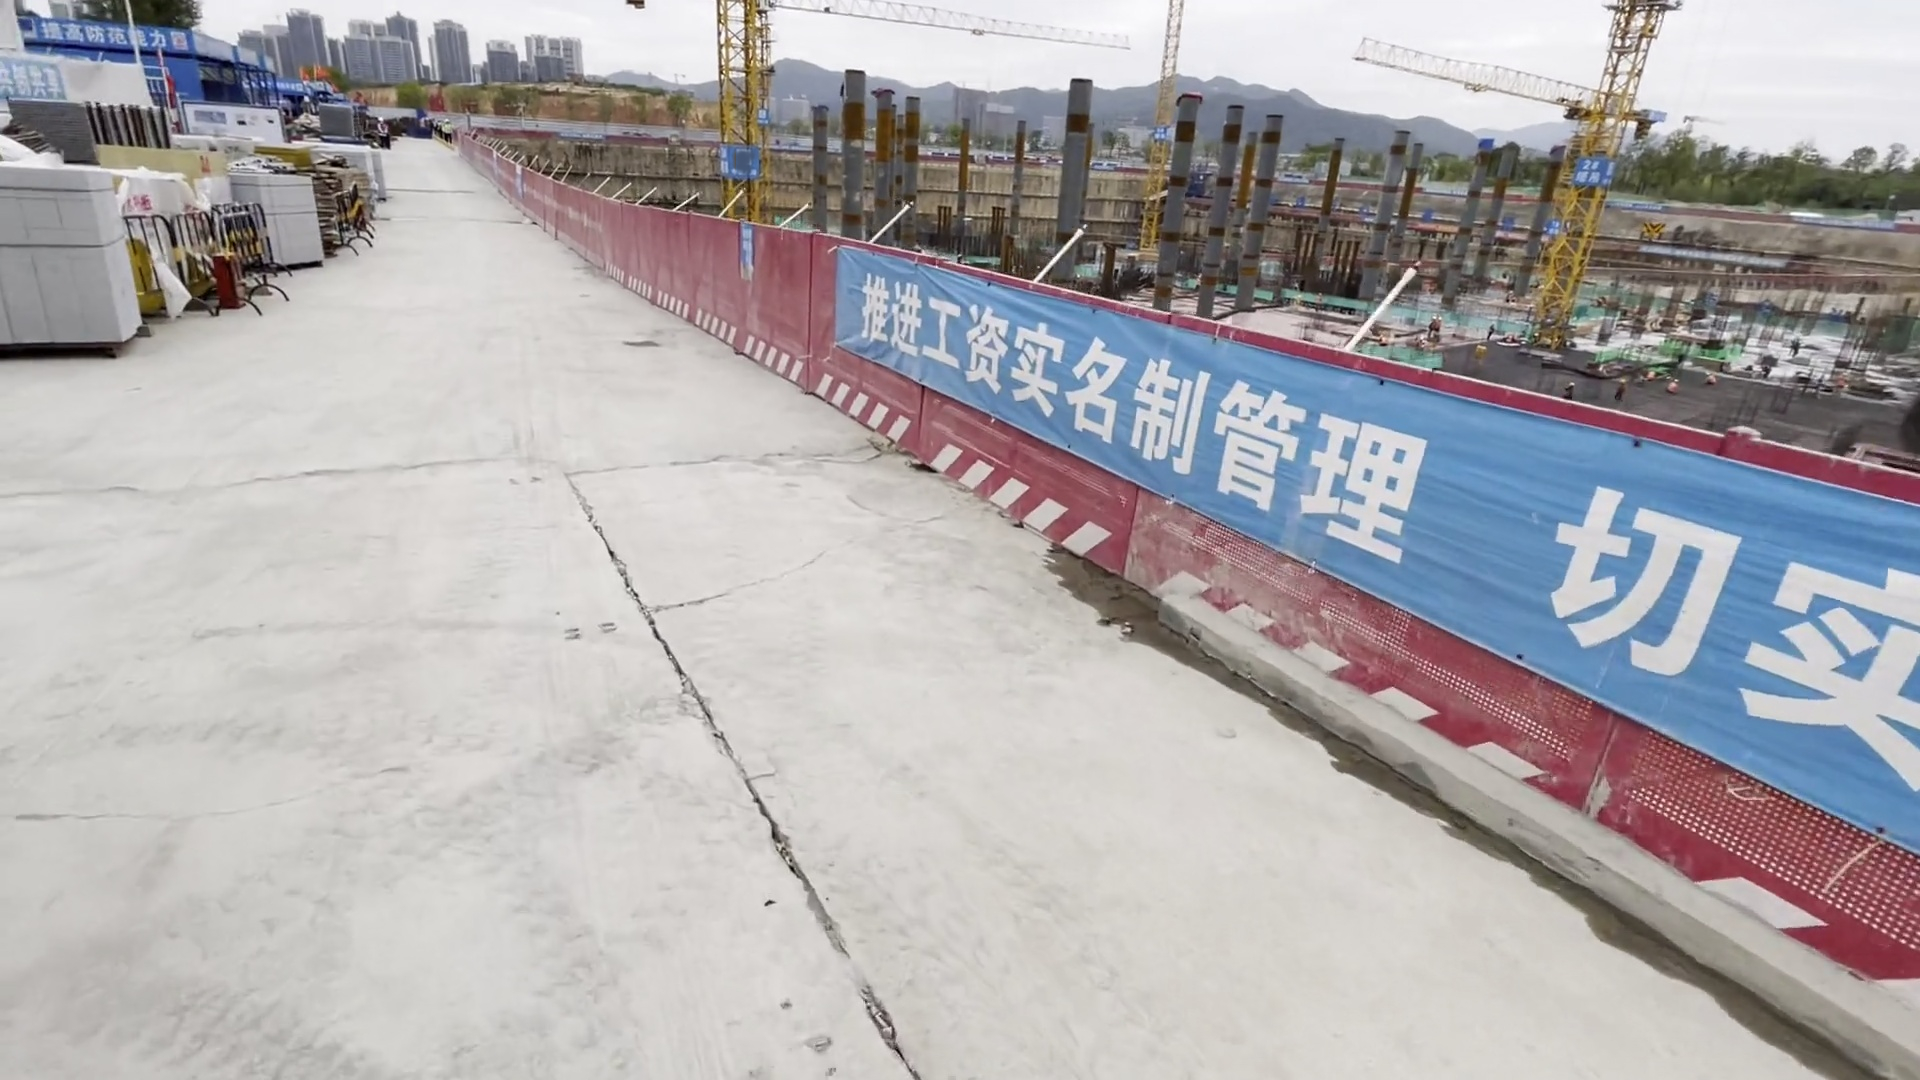brick: (1, 156, 148, 363), (220, 165, 323, 281)
fence: (448, 133, 844, 413)
slogan: (831, 255, 1920, 945)
